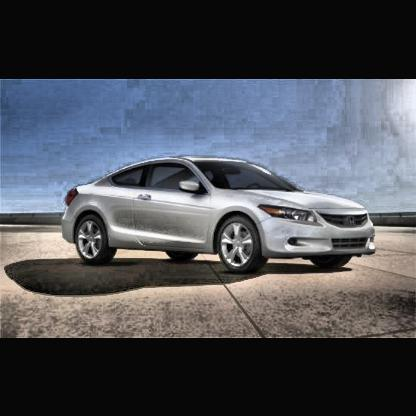Honda Accord Coupe 2012: (60, 159, 377, 272)
